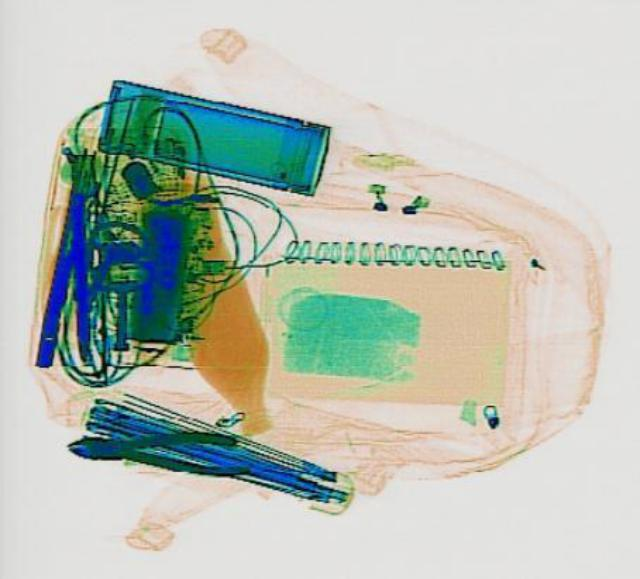Pliers: (63, 422, 249, 474)
